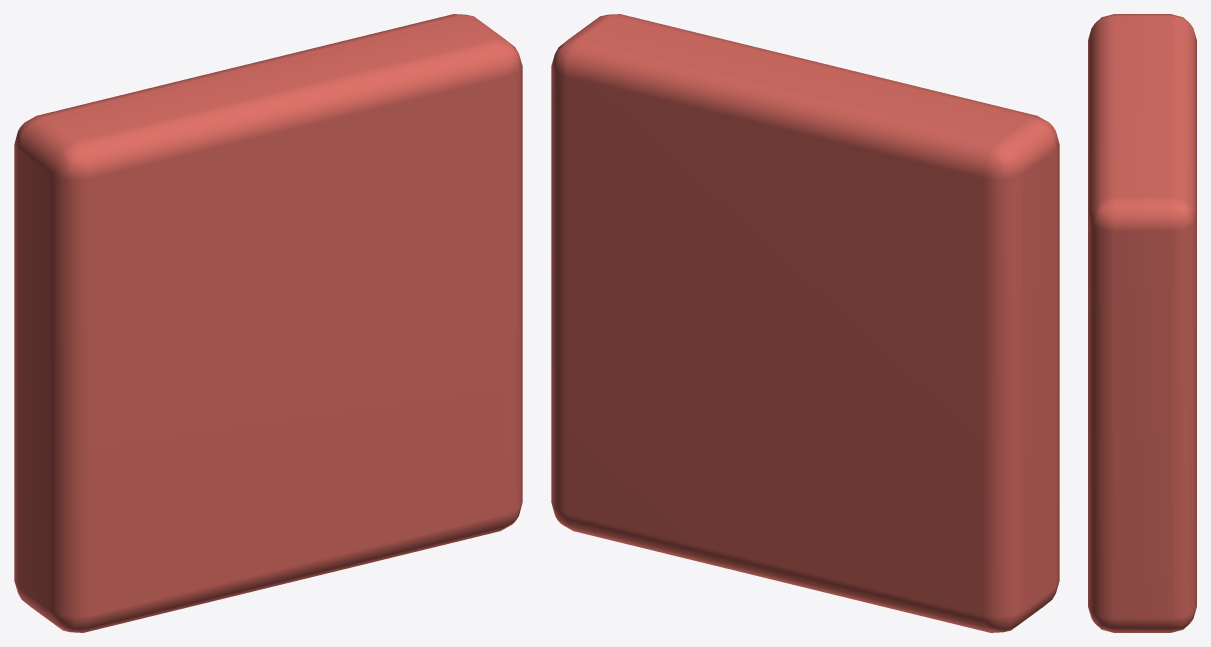
Rendered from shape-square-red.glb.
The picture shows the model from 3 angles, left to right: view 1: azimuth 30°, elevation 25°; view 2: azimuth 150°, elevation 25°; view 3: azimuth 270°, elevation 25°; orthographic projection. The views are drawn at different scales.
Visible parts, largest first — view 1: solid square; view 2: solid square; view 3: solid square.
Part boxes in pixels (box(x1,y1,x2,y2)): solid square: box(14, 14, 522, 632); solid square: box(551, 14, 1059, 632); solid square: box(1088, 14, 1196, 632).
Size of the model in its own units: 1.1 by 1.1 by 0.25.
